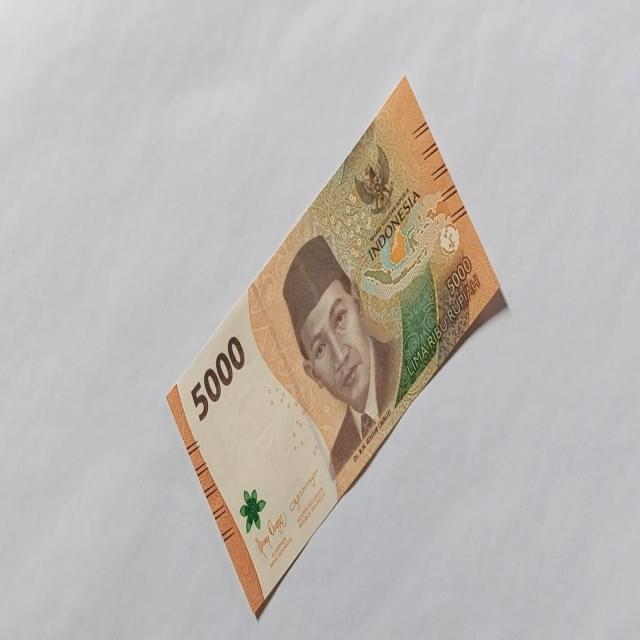lima ribu rupiah: (166, 76, 509, 621), (281, 232, 401, 481)
